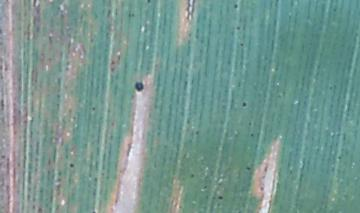tarspot: (133, 79, 146, 93), (126, 9, 136, 18), (244, 163, 253, 172), (200, 183, 209, 192), (193, 128, 201, 137), (68, 161, 75, 170), (335, 154, 344, 161), (240, 101, 248, 108), (233, 2, 240, 10), (215, 193, 223, 200), (189, 172, 196, 180), (332, 6, 339, 14), (247, 118, 253, 127), (90, 104, 96, 113), (238, 41, 245, 48), (31, 1, 38, 8), (248, 132, 256, 137), (235, 25, 241, 31), (146, 1, 151, 4)
